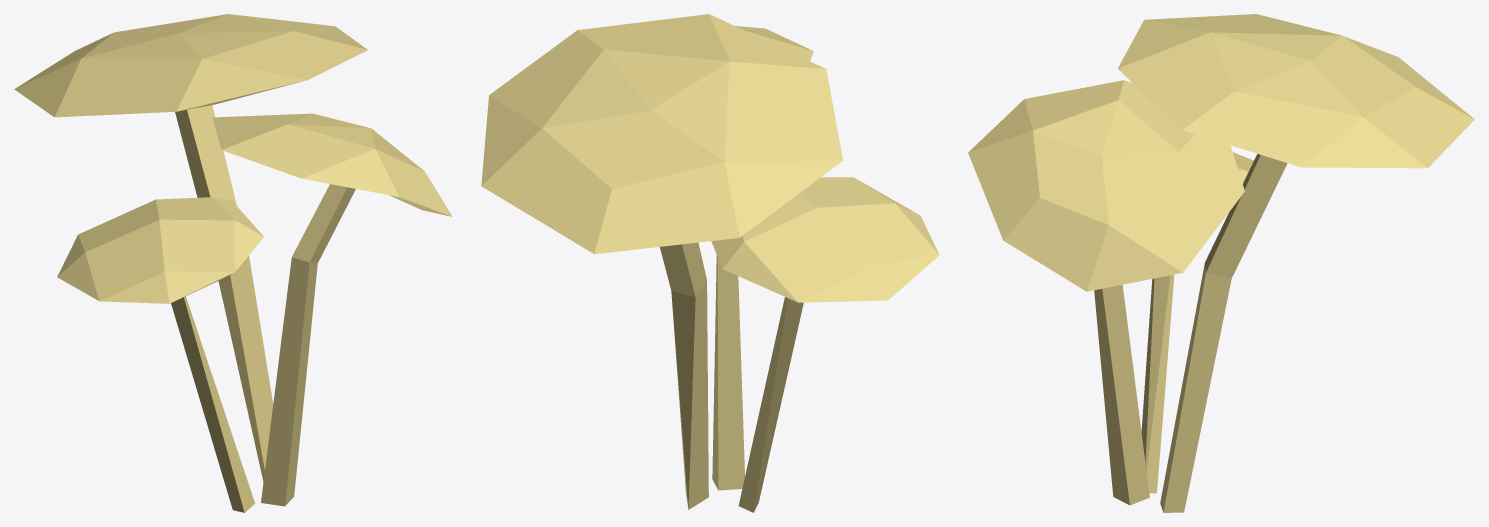
Rendered from Mushroom_h_05.fbx.
3 views of the same model, side by side, from view 1: azimuth 30°, elevation 25°; view 2: azimuth 150°, elevation 25°; view 3: azimuth 270°, elevation 25° (orthographic). The views are drawn at different scales.
Parts seen in each view (by area): view 1: Mushroom_h_05; view 2: Mushroom_h_05; view 3: Mushroom_h_05.
Part boxes in pixels (x1,y1,x2,y2): Mushroom_h_05: [14, 14, 452, 512]; Mushroom_h_05: [481, 14, 939, 512]; Mushroom_h_05: [968, 14, 1474, 512].
Bounding box in the file's own units: 0.2247 × 0.2796 × 0.2816.
